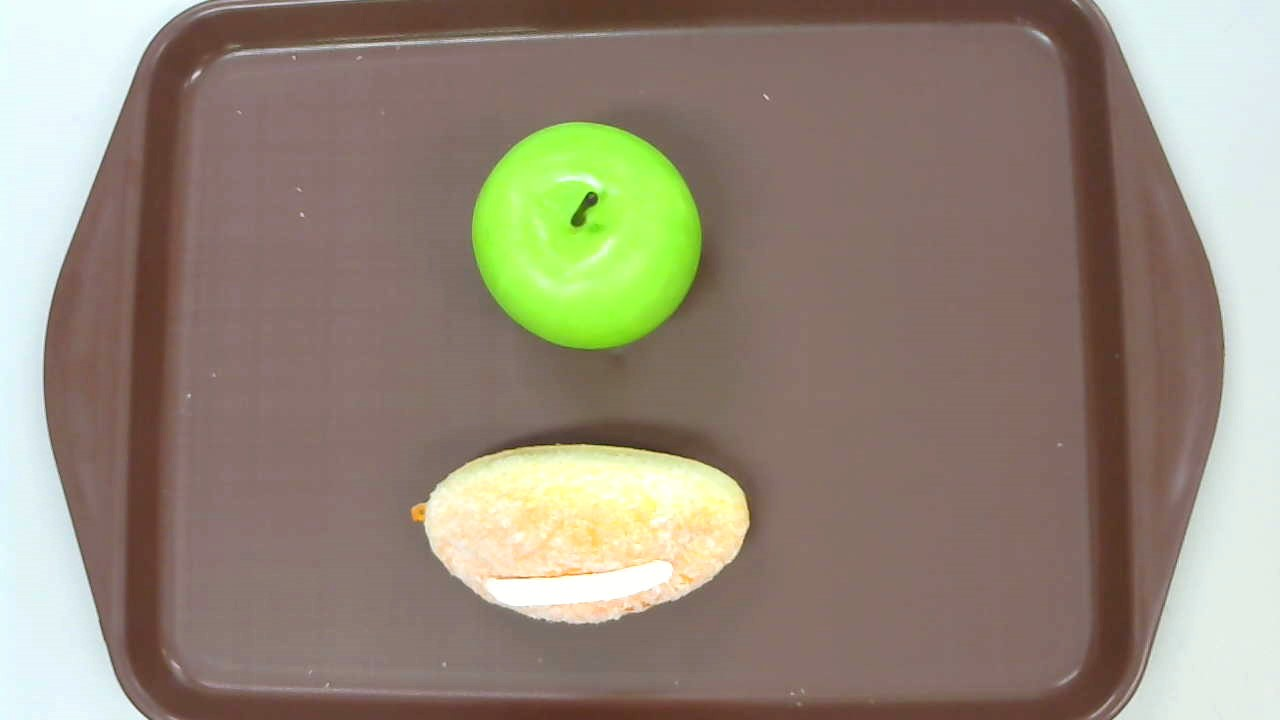coconut: (411, 442, 750, 622)
green apple: (472, 120, 705, 350)
